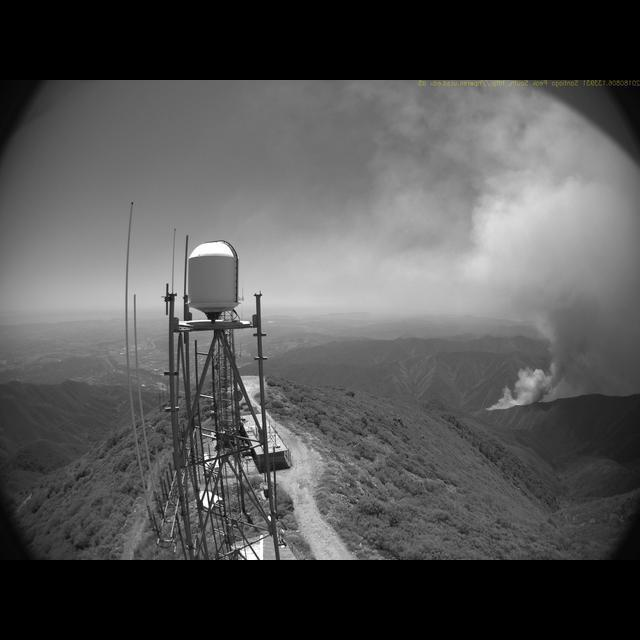Smoke: (484, 96, 639, 413)
